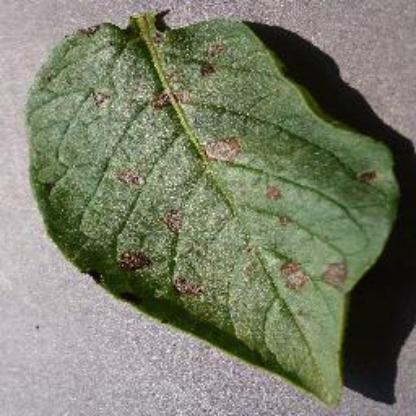Early-Blight: (24, 6, 409, 404)
